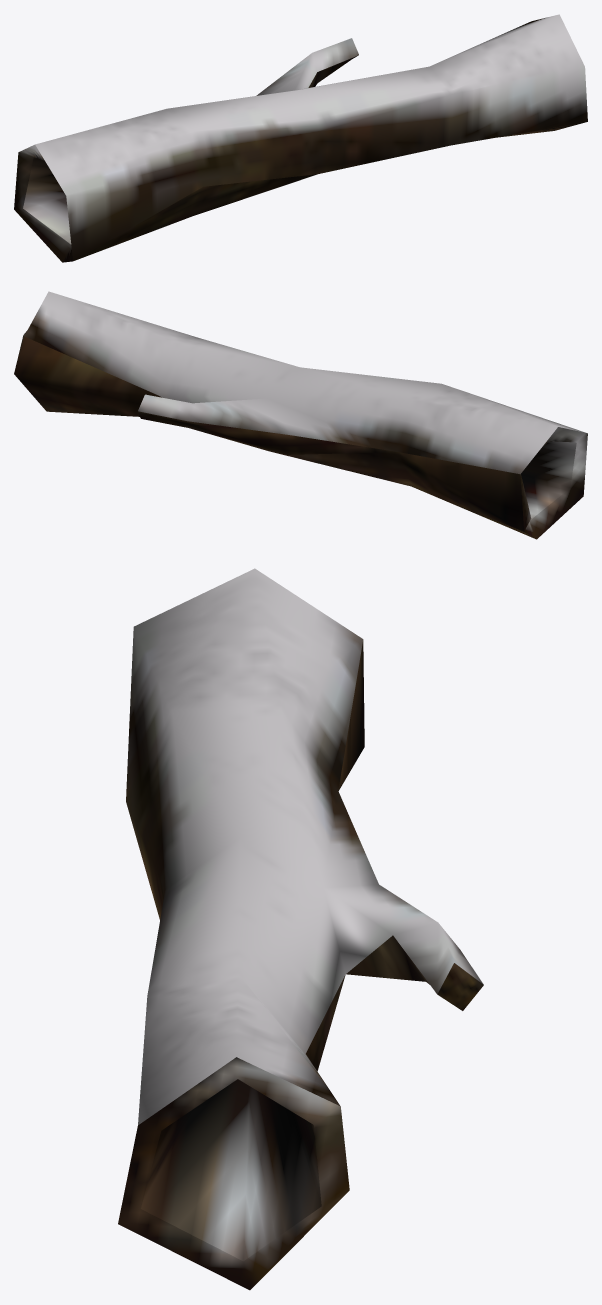
File: general_obj_pillar.glb
The picture shows the model from 3 angles, top to bottom: view 1: azimuth 30°, elevation 25°; view 2: azimuth 150°, elevation 25°; view 3: azimuth 270°, elevation 25°; orthographic projection. The views are drawn at different scales.
Visible parts, largest first — view 1: Object24; view 2: Object24; view 3: Object24.
Boxes of the visible parts, left/top/right/bottom form: Object24: left=14, top=14, right=587, bottom=262; Object24: left=14, top=291, right=587, bottom=539; Object24: left=118, top=568, right=483, bottom=1290.
Bounding box in the file's own units: 3.13 × 0.7272 × 0.9475.
Materials: 1 (1 with a texture image).
